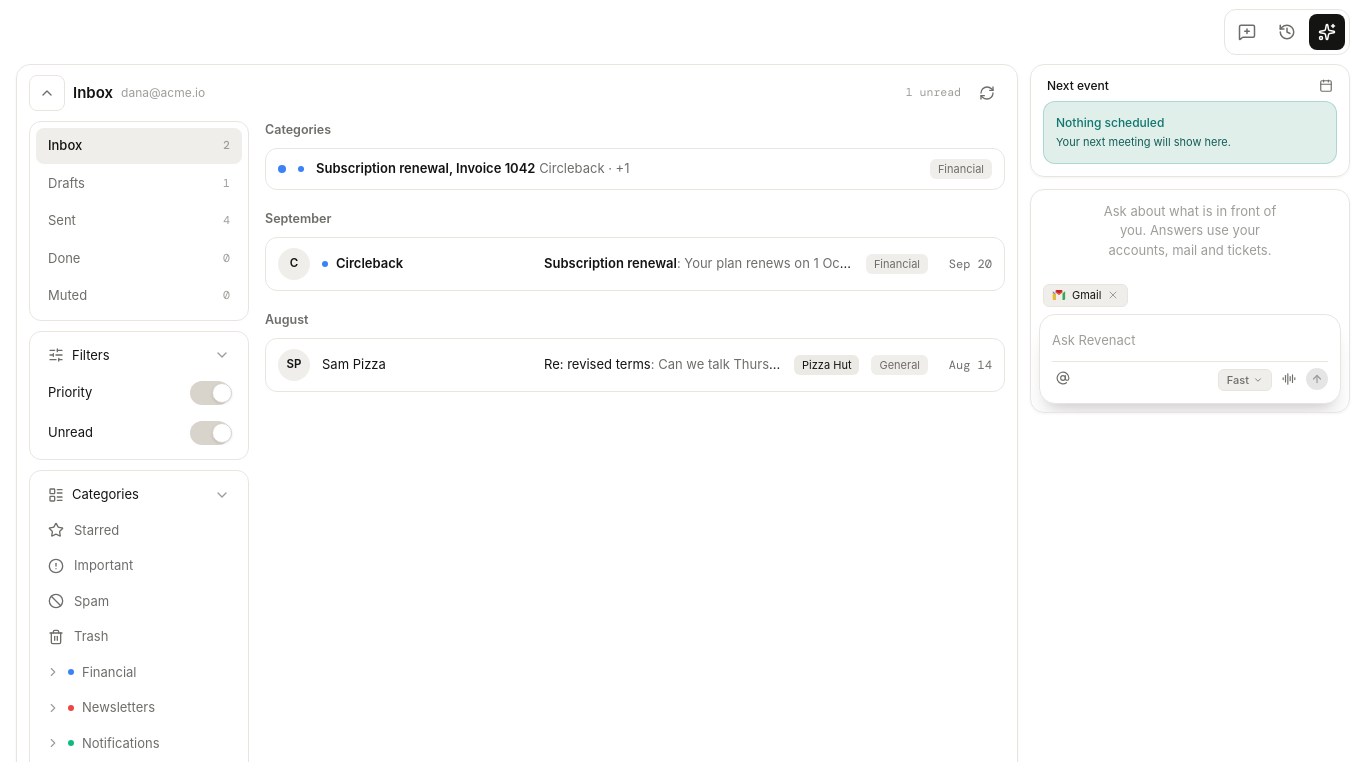
it: MailboxView › a message that cannot be opened says so in the reading pane, and the list survives
Expected: the element "September" is shown, [265, 210, 1005, 291]
Step 1. Click the button "Subscription renewal: Your plan renews" → click(635, 264), box [265, 237, 1005, 291]
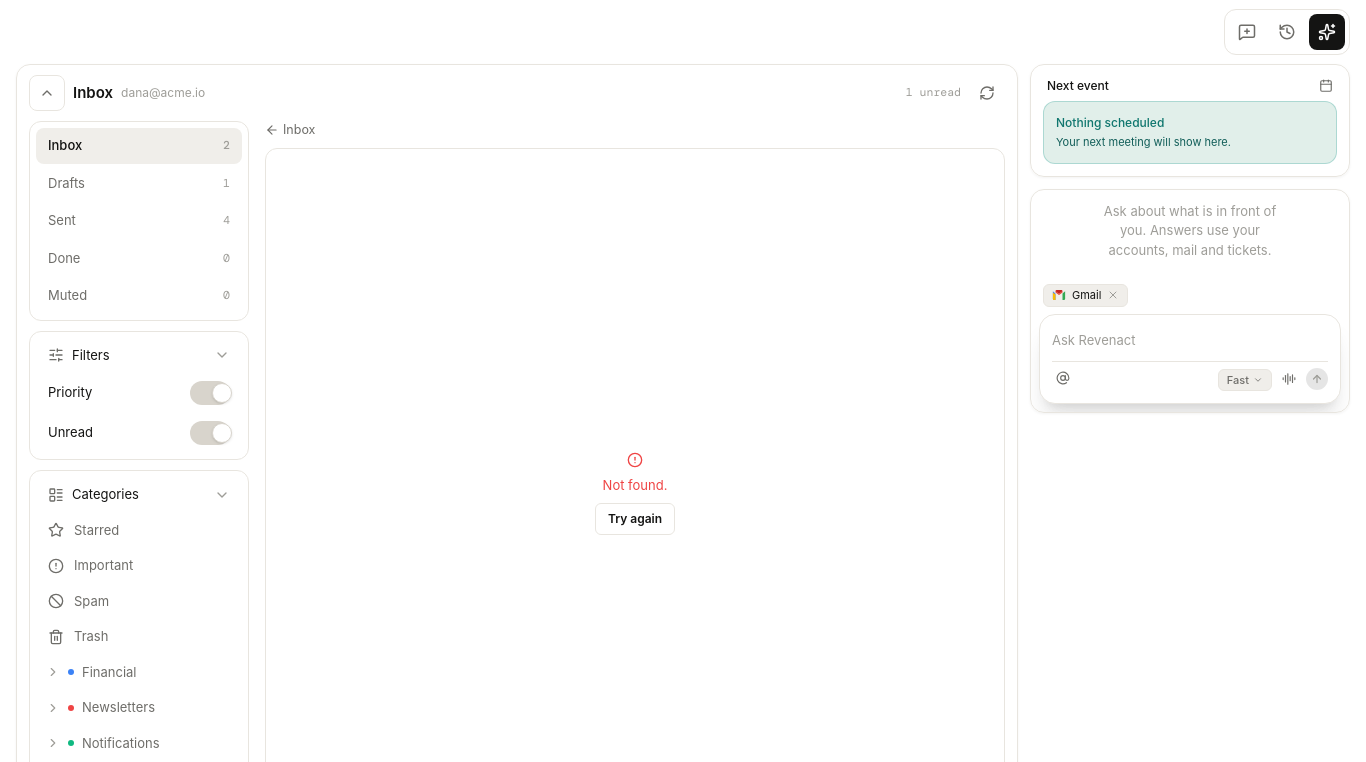
Result: the message shows "Not found." at [603, 477, 667, 493]
Step 2. Click the button "Inbox" → click(290, 130), box [265, 121, 315, 140]
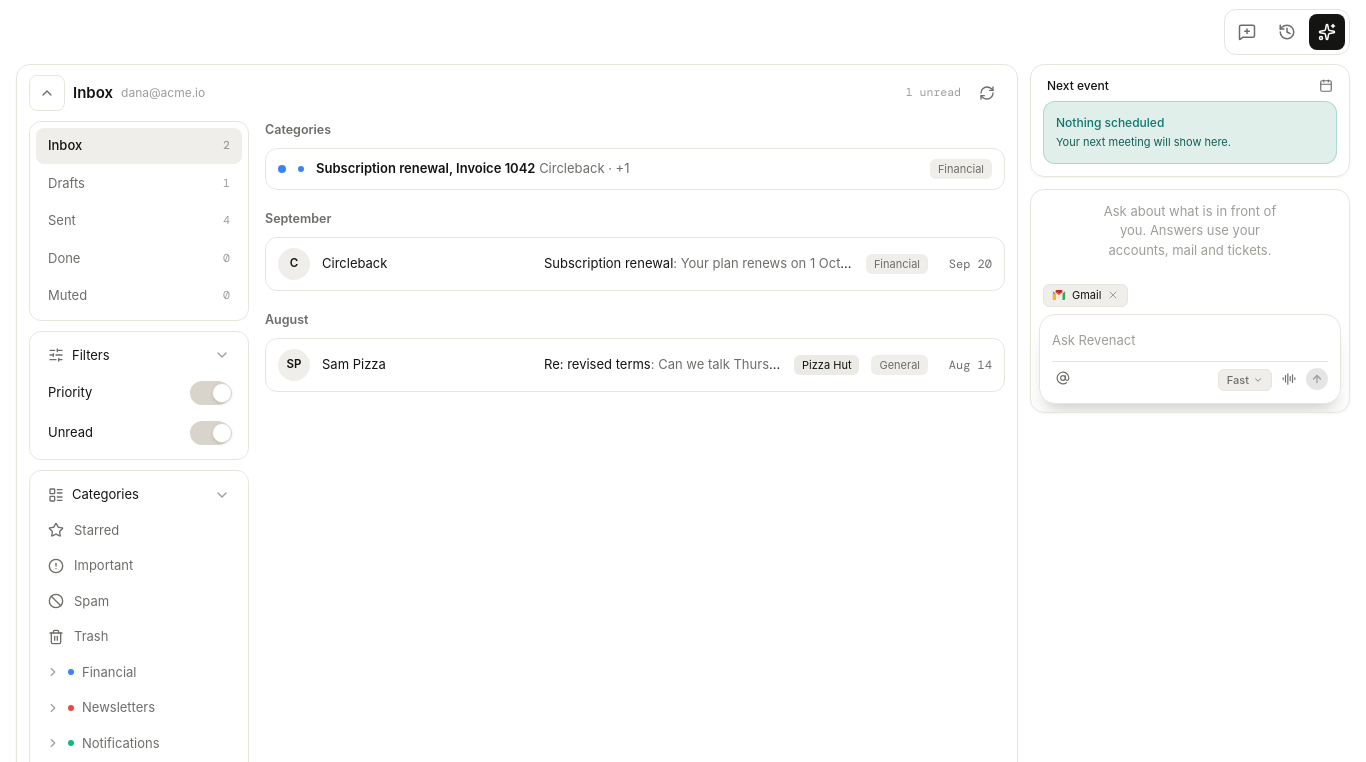
Result: the element "September" is shown at [265, 210, 1005, 291]
